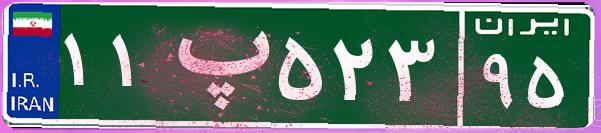1: (57, 26, 110, 107), (110, 28, 158, 105)
2: (330, 28, 385, 110)
3: (385, 28, 445, 110)
5: (273, 28, 330, 110), (525, 38, 570, 115)
9: (475, 38, 525, 113)
پ: (158, 15, 273, 115)
